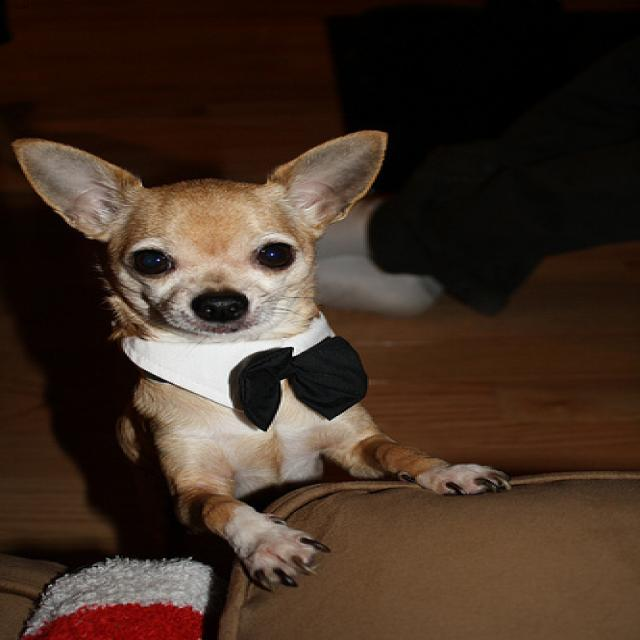dog-chihuahua: (6, 119, 402, 353)
